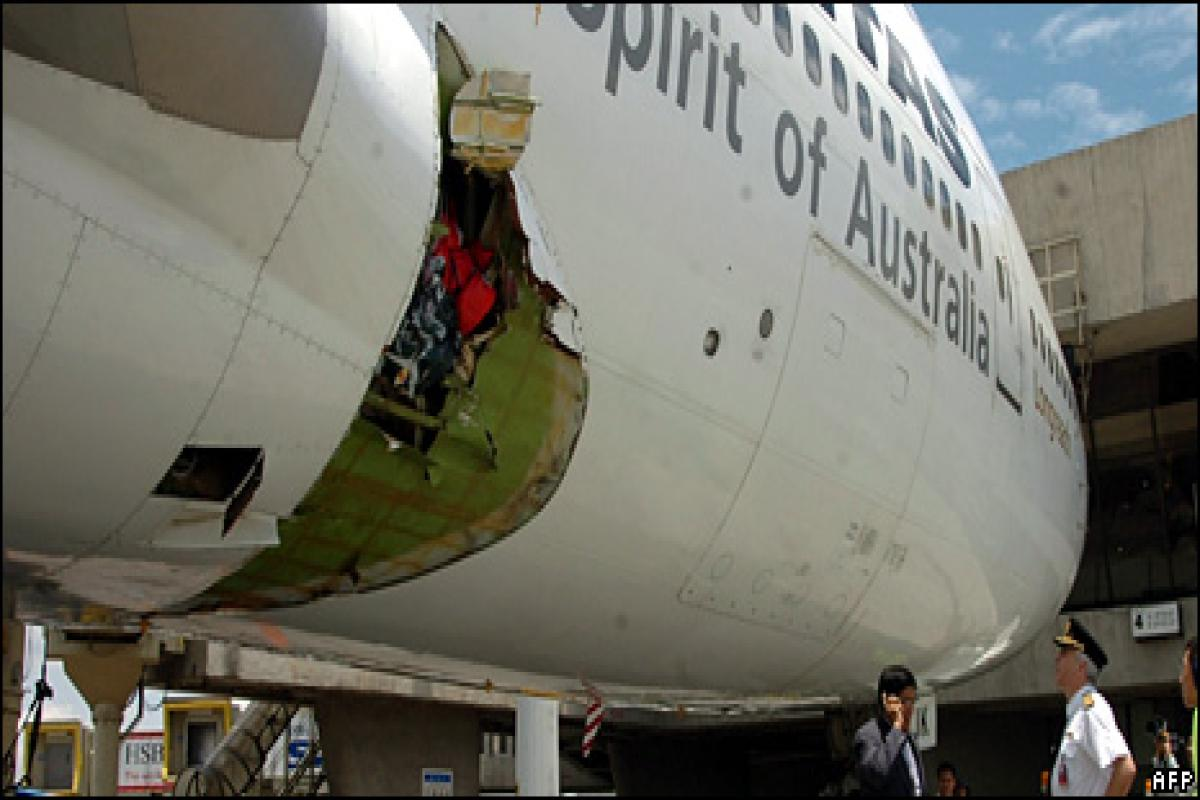Fuselage_damage: (102, 6, 611, 633)
